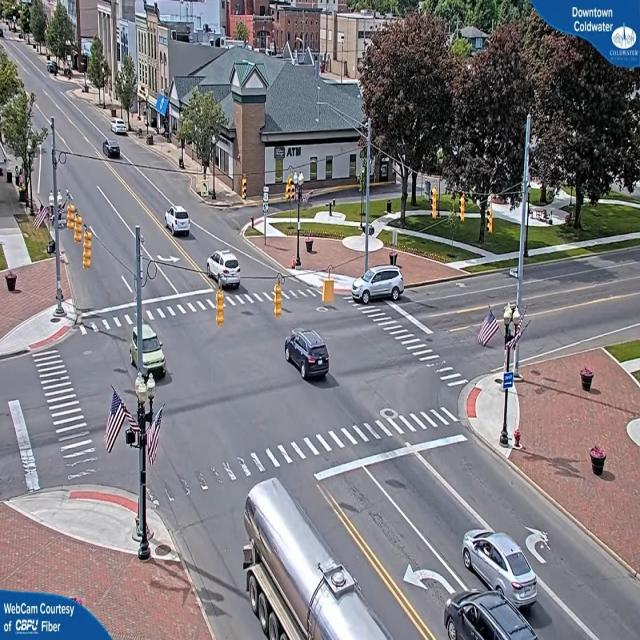car: (456, 556, 548, 633), (462, 532, 538, 608), (441, 591, 553, 640), (285, 328, 331, 378), (132, 329, 167, 381), (356, 267, 403, 304), (206, 250, 243, 288), (166, 207, 192, 239), (105, 142, 123, 161), (112, 120, 129, 136)
